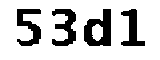1: (119, 6, 149, 50)
3: (50, 6, 80, 50)
5: (14, 6, 46, 48)
d: (81, 6, 116, 49)
